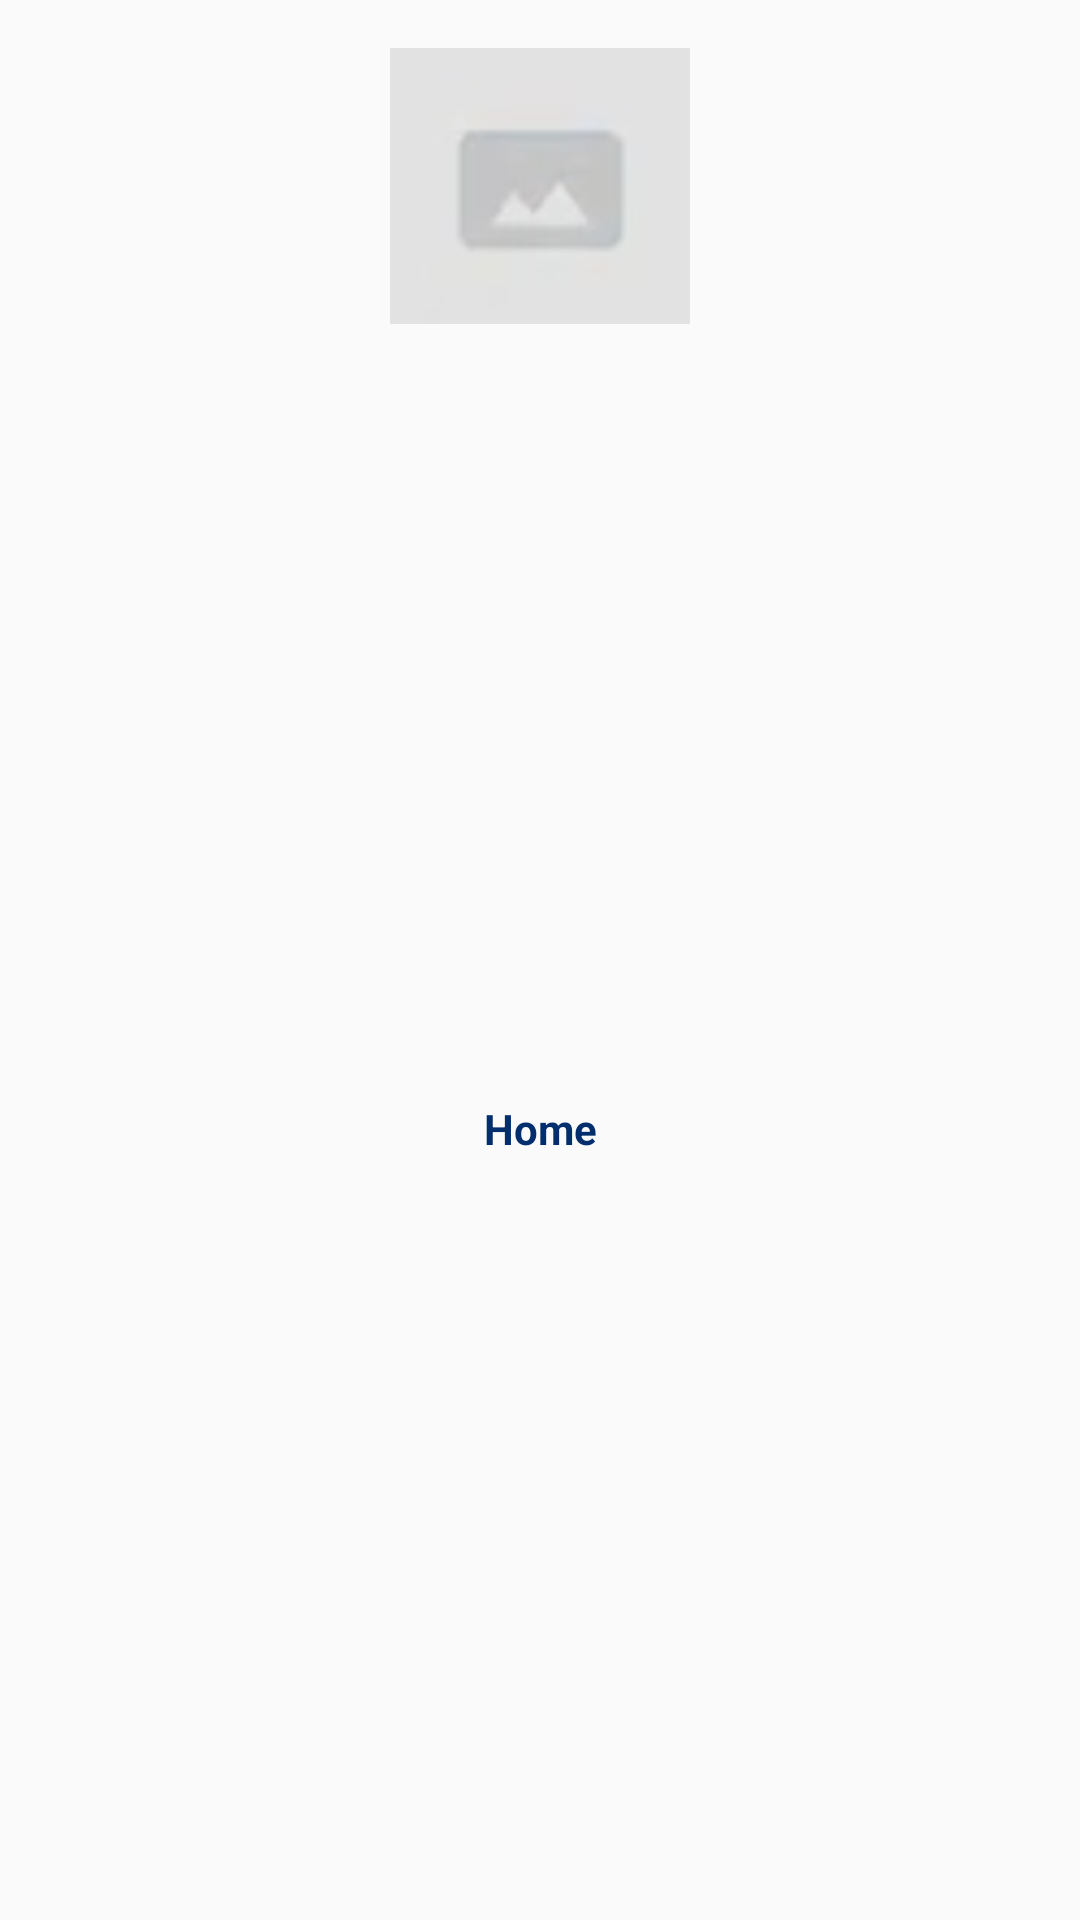

Icons on this 1080px×1920px Android screen, each with its box as (x1, y1, x2, y2):
placeholdersmall: (422, 75, 647, 322)
